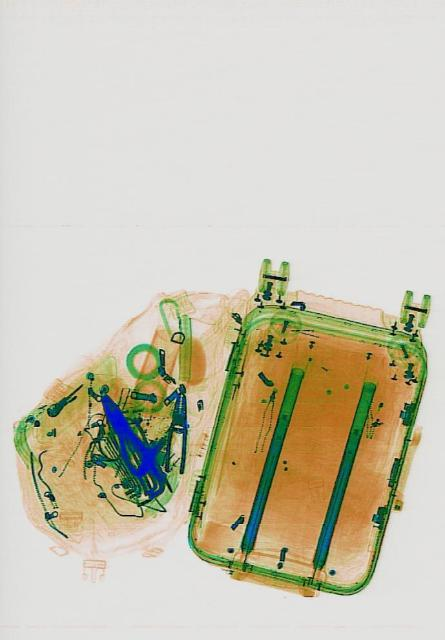Pliers: (92, 386, 170, 502), (162, 390, 189, 476)
